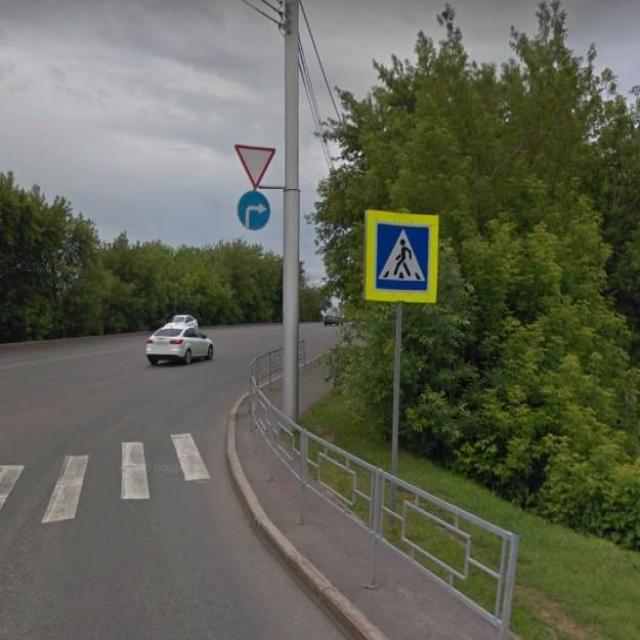traffic_sign: (362, 208, 440, 306), (232, 143, 278, 194)
